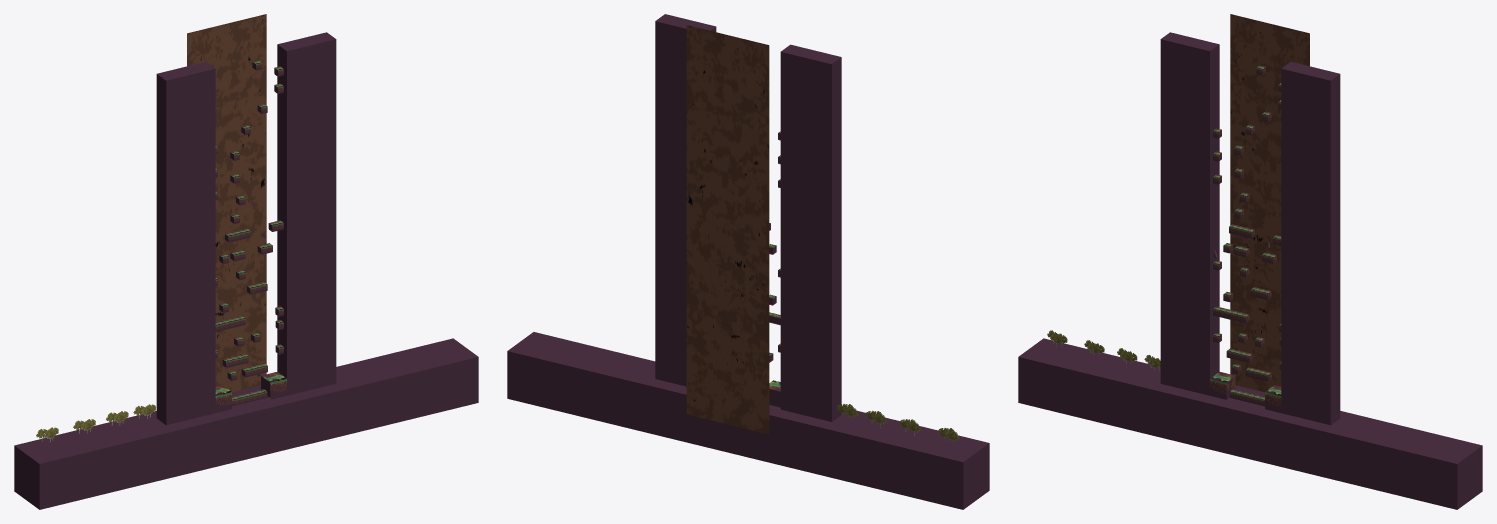
The model's file is demoScn.glb.
3 views of the same model, side by side, from view 1: azimuth 30°, elevation 25°; view 2: azimuth 150°, elevation 25°; view 3: azimuth 330°, elevation 25° (orthographic). The views are drawn at different scales.
Visible parts, largest first — view 1: Cube.005, Cube.008, Plane, Cube.004, Cube.003, Cube.002; view 2: Plane, Cube.005, Cube.008, Cube.003; view 3: Cube.005, Cube.008, Plane, Cube.003, Cube.004, Cube.001.
Boxes of the visible parts, bbox=[...] form: Cube.005: bbox=[14, 338, 478, 509]; Cube.008: bbox=[156, 32, 336, 425]; Plane: bbox=[187, 14, 266, 392]; Cube.004: bbox=[277, 40, 303, 395]; Cube.003: bbox=[190, 62, 215, 417]; Cube.002: bbox=[261, 371, 286, 399]; Plane: bbox=[686, 25, 769, 434]; Cube.005: bbox=[507, 332, 989, 509]; Cube.008: bbox=[655, 14, 841, 421]; Cube.003: bbox=[780, 44, 806, 413]; Cube.005: bbox=[1018, 338, 1482, 509]; Cube.008: bbox=[1160, 32, 1340, 425]; Plane: bbox=[1230, 14, 1309, 392]; Cube.003: bbox=[1193, 40, 1219, 395]; Cube.004: bbox=[1281, 62, 1306, 417]; Cube.001: bbox=[1210, 371, 1235, 399].
Bounding box in the file's own units: 160 × 142 × 20.47.
4 materials, 3 textured.
